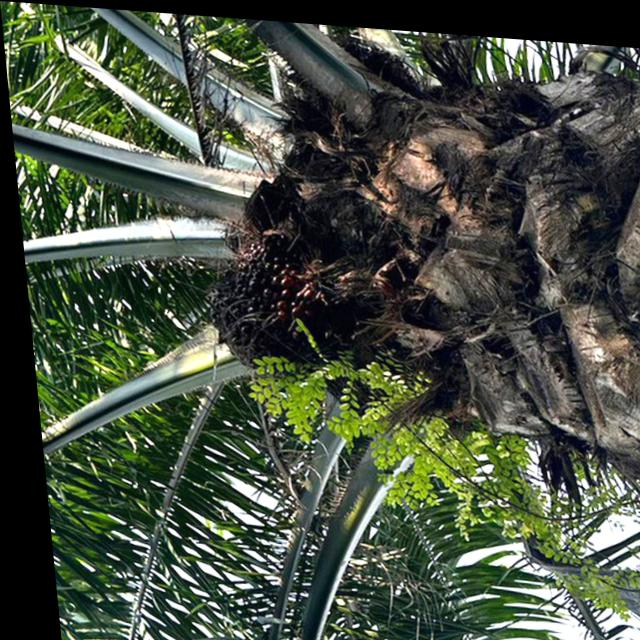ripe: (188, 207, 352, 380)
